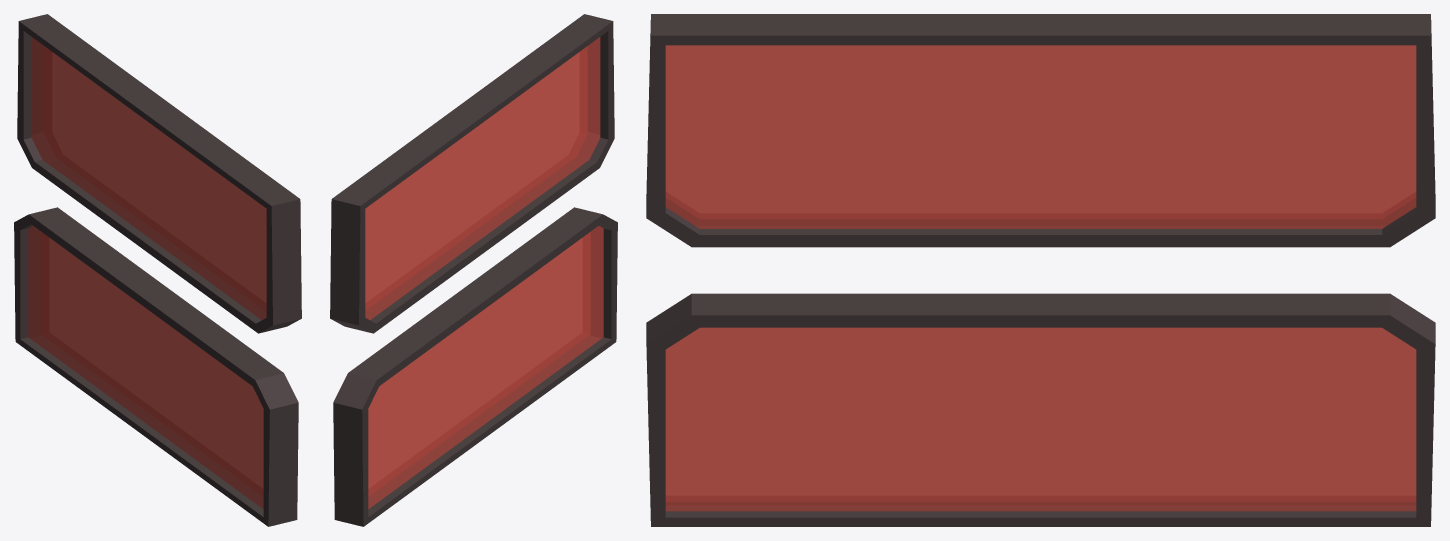
Rendered from Animated two shapes 1 (1).fbx.
3 renders of one model, left to right at view 1: azimuth 30°, elevation 25°; view 2: azimuth 150°, elevation 25°; view 3: azimuth 270°, elevation 25°, orthographic. The views are drawn at different scales.
Visible parts, largest first — view 1: Cube; view 2: Cube; view 3: Cube.
Boxes of the visible parts, <box> form: Cube: <box>14,14,301,526</box>; Cube: <box>330,14,617,526</box>; Cube: <box>646,14,1435,526</box>.
Bounding box in the file's own units: 1353 × 934 × 97.93.
